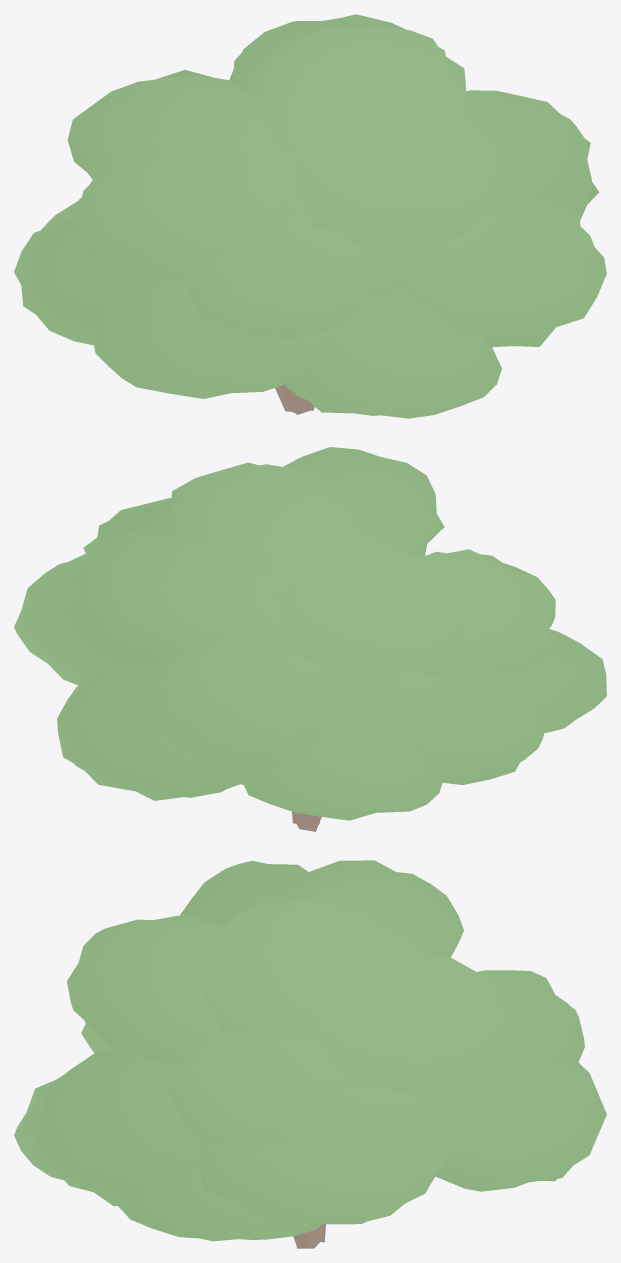
File: Blender_Shrub_2.glb
The picture shows the model from 3 angles, top to bottom: view 1: azimuth 30°, elevation 25°; view 2: azimuth 150°, elevation 25°; view 3: azimuth 270°, elevation 25°; orthographic projection. The views are drawn at different scales.
Visible parts, largest first — view 1: Blender_Shrub_2; view 2: Blender_Shrub_2; view 3: Blender_Shrub_2.
Boxes of the visible parts, left/top/right/bottom form: Blender_Shrub_2: left=14, top=14, right=606, bottom=418; Blender_Shrub_2: left=14, top=447, right=606, bottom=831; Blender_Shrub_2: left=14, top=860, right=606, bottom=1248.
Size of the model in its own units: 2.13 by 1.35 by 2.03.
